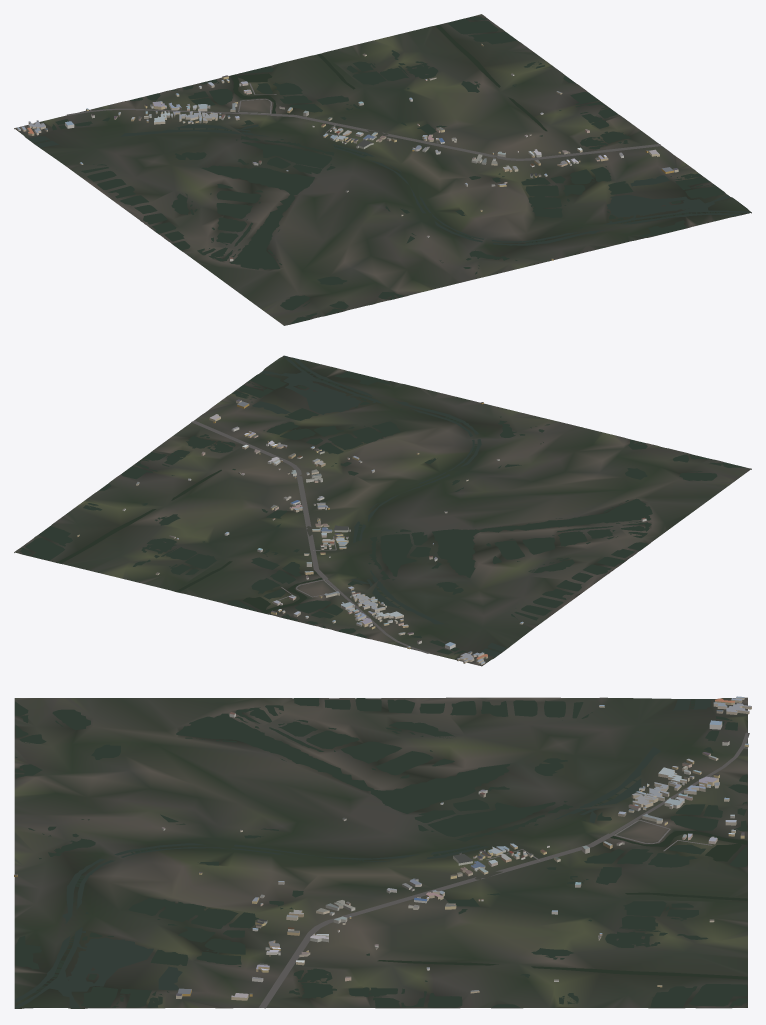
3 views of the same model, one above another, from view 1: azimuth 30°, elevation 25°; view 2: azimuth 150°, elevation 25°; view 3: azimuth 270°, elevation 25° (orthographic). The views are drawn at different scales.
Visible parts, largest first — view 1: ground, water, buildings, roads; view 2: ground, water, buildings, roads; view 3: ground, water, buildings, roads.
Boxes of the visible parts, x1,y1,x2,y2 form: ground: (14, 14, 751, 325); water: (27, 16, 750, 324); buildings: (17, 43, 678, 261); roads: (67, 83, 660, 160); ground: (14, 355, 751, 666); water: (20, 355, 745, 657); buildings: (77, 399, 646, 664); roads: (191, 420, 429, 653); ground: (14, 697, 747, 1008); water: (15, 698, 747, 1008); buildings: (14, 696, 751, 1000); roads: (259, 732, 749, 1008).
Size of the model in its own units: 1403 by 15.4 by 1409.
